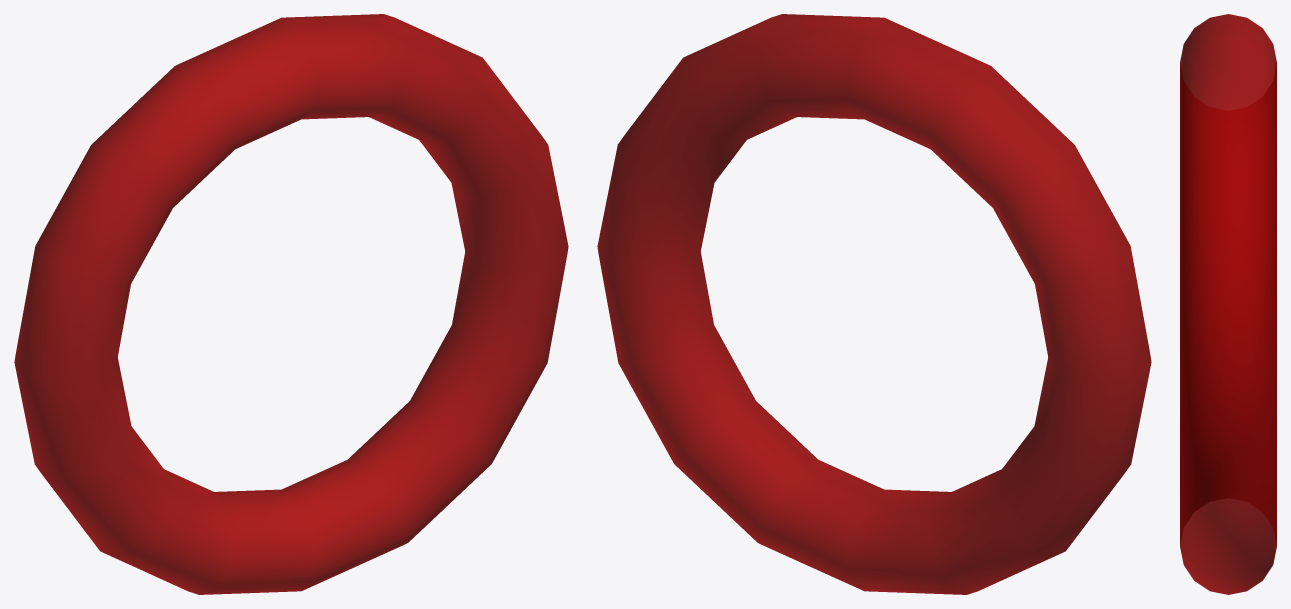
File: boost_ring.fbx
3 renders of one model, left to right at view 1: azimuth 30°, elevation 25°; view 2: azimuth 150°, elevation 25°; view 3: azimuth 270°, elevation 25°, orthographic. The views are drawn at different scales.
Visible parts, largest first — view 1: pTorus1; view 2: pTorus1; view 3: pTorus1.
Boxes of the visible parts, x1,y1,x2,y2 form: pTorus1: (14,14,568,594); pTorus1: (597,14,1151,594); pTorus1: (1180,14,1276,594).
Bounding box in the file's own units: 24 × 24 × 4.
